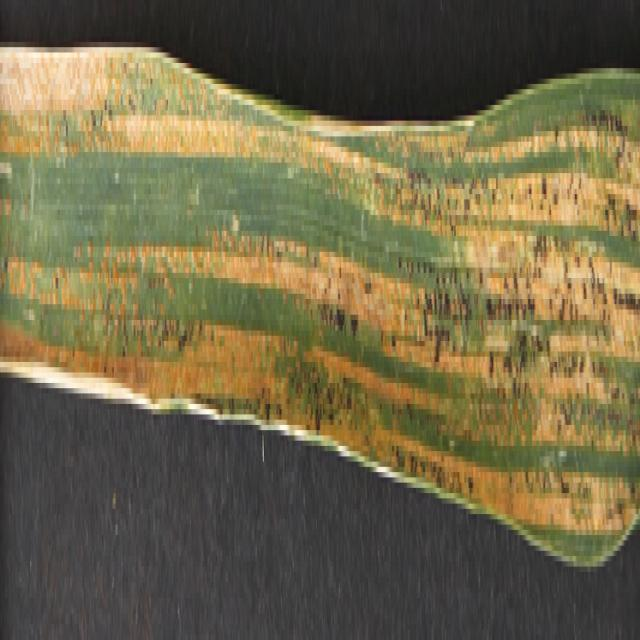leaf rust: (1, 47, 640, 546)
